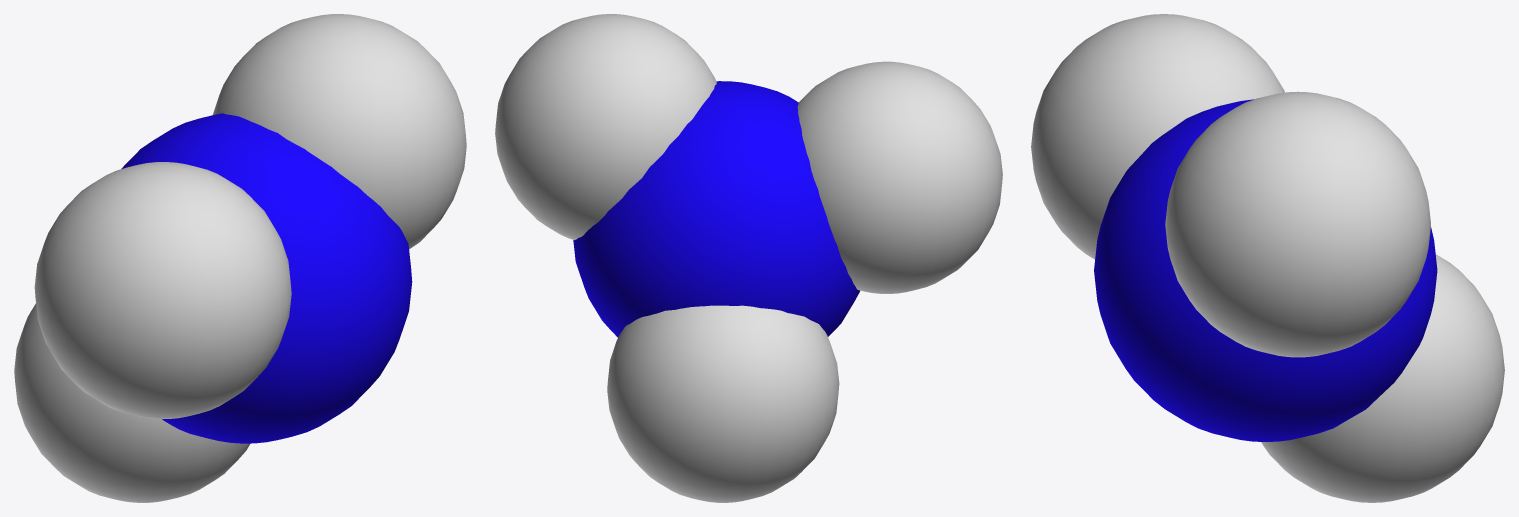
The picture shows the model from 3 angles, left to right: view 1: azimuth 30°, elevation 25°; view 2: azimuth 150°, elevation 25°; view 3: azimuth 270°, elevation 25°; orthographic projection. The views are drawn at different scales.
Visible parts, largest first — view 1: Sphere002, Sphere003, Sphere001, Sphere004; view 2: Sphere003, Sphere004, Sphere002, Sphere001; view 3: Sphere001, Sphere003, Sphere002, Sphere004.
Part boxes in pixels (left/top/right/bottom): Sphere002: left=34, top=162, right=291, bottom=419; Sphere003: left=121, top=113, right=412, bottom=443; Sphere001: left=213, top=14, right=466, bottom=249; Sphere004: left=14, top=303, right=250, bottom=502; Sphere003: left=573, top=81, right=859, bottom=337; Sphere004: left=607, top=305, right=839, bottom=502; Sphere002: left=797, top=61, right=1002, bottom=293; Sphere001: left=495, top=14, right=716, bottom=240; Sphere001: left=1165, top=91, right=1430, bottom=357; Sphere003: left=1094, top=99, right=1437, bottom=441; Sphere002: left=1031, top=14, right=1284, bottom=259; Sphere004: left=1261, top=254, right=1504, bottom=502.
Size of the model in its own units: 19.62 by 18.31 by 16.84.
